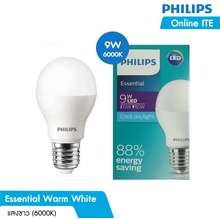Light_bulb: (32, 53, 97, 179)
